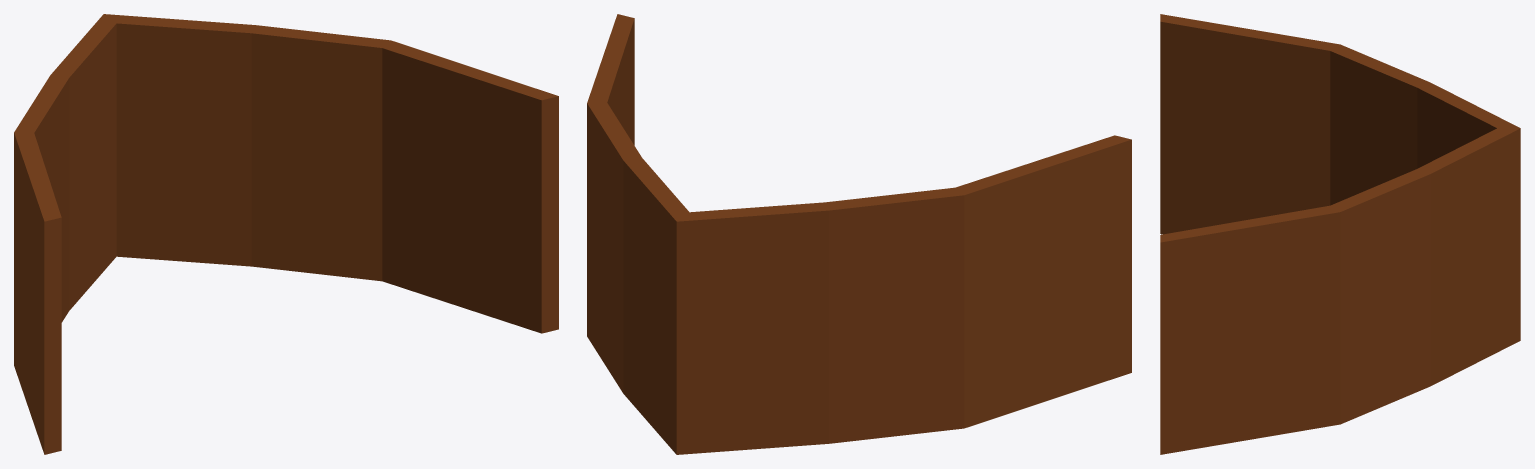
File: MIDDLE_BOW.obj
3 views of the same model, side by side, from view 1: azimuth 30°, elevation 25°; view 2: azimuth 150°, elevation 25°; view 3: azimuth 270°, elevation 25° (orthographic). The views are drawn at different scales.
Size of the model in its own units: 6 by 2.6 by 4.
